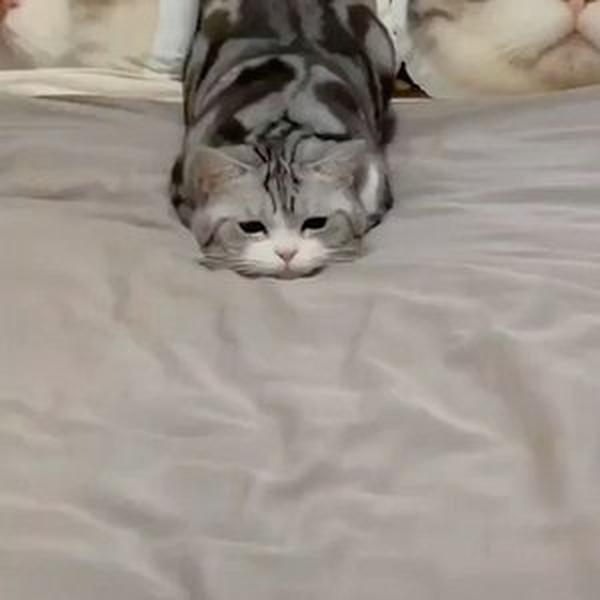michi: (161, 5, 437, 284)
